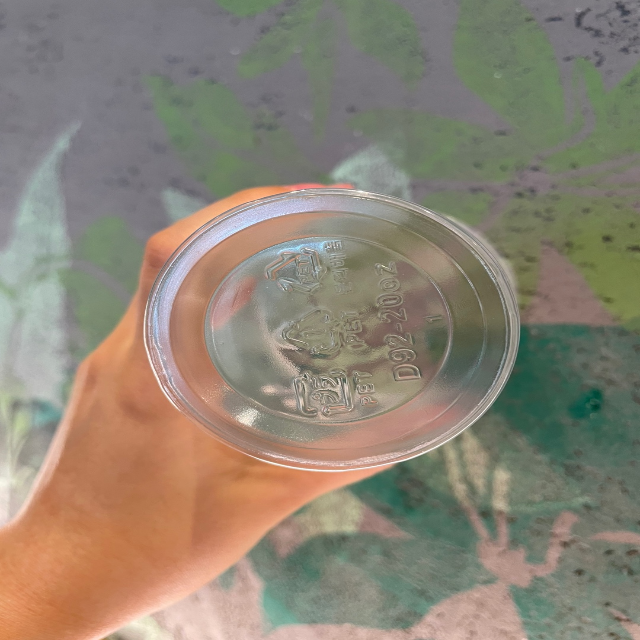pet: (264, 237, 360, 301), (289, 363, 382, 422), (281, 302, 365, 360)
